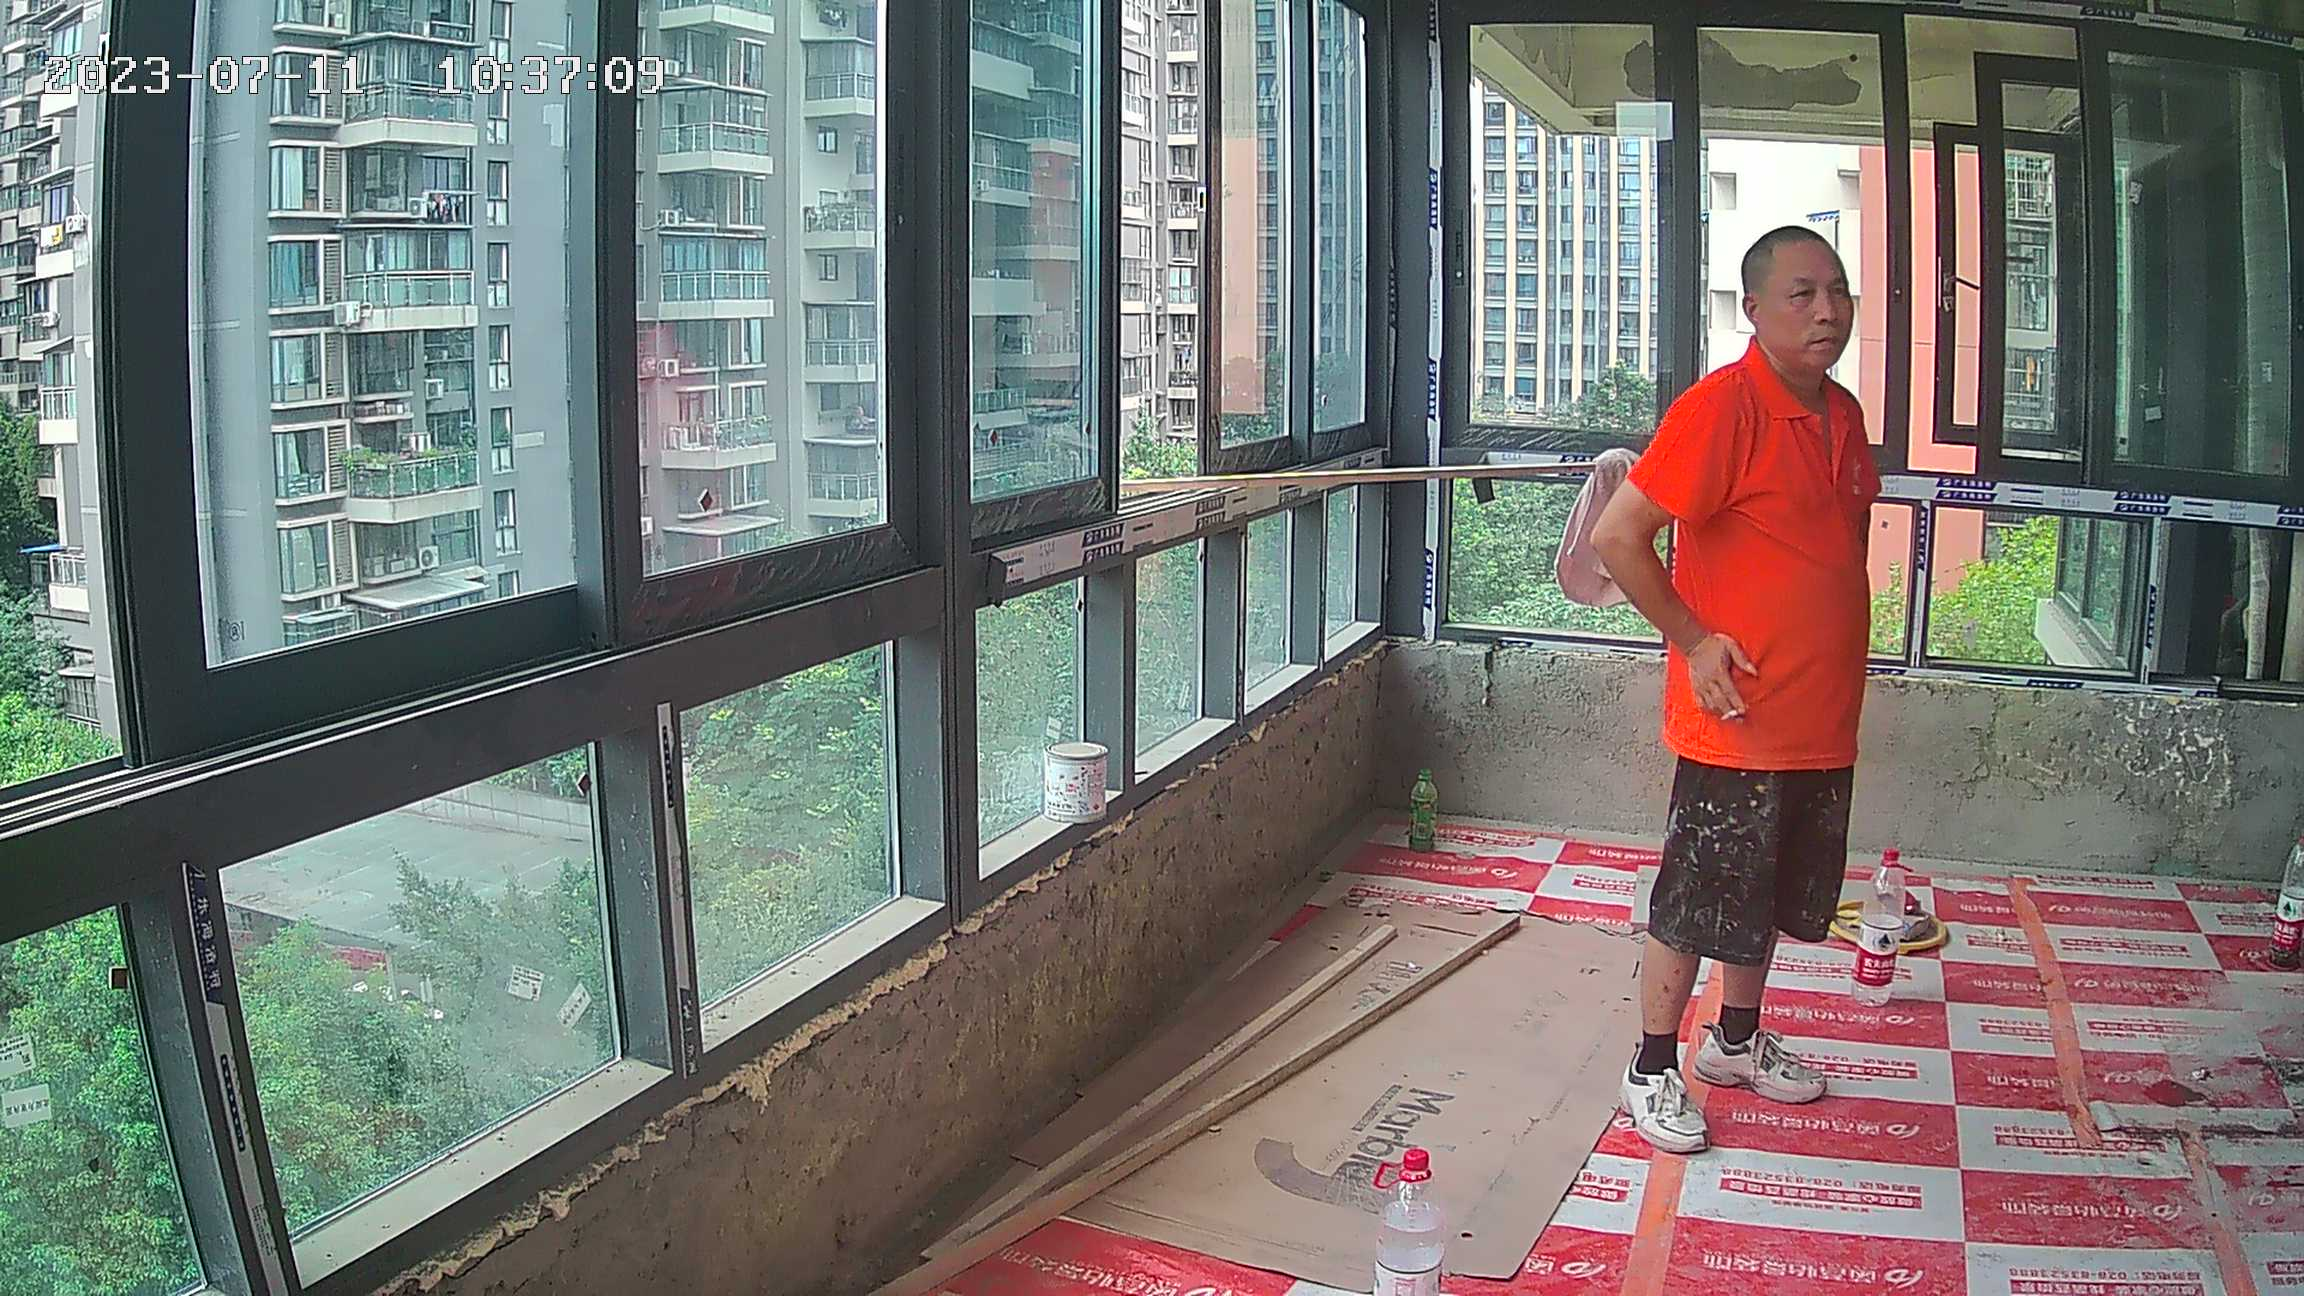people: (1614, 221, 1868, 1159)
window: (3, 6, 1378, 1113), (1454, 28, 2304, 690)
